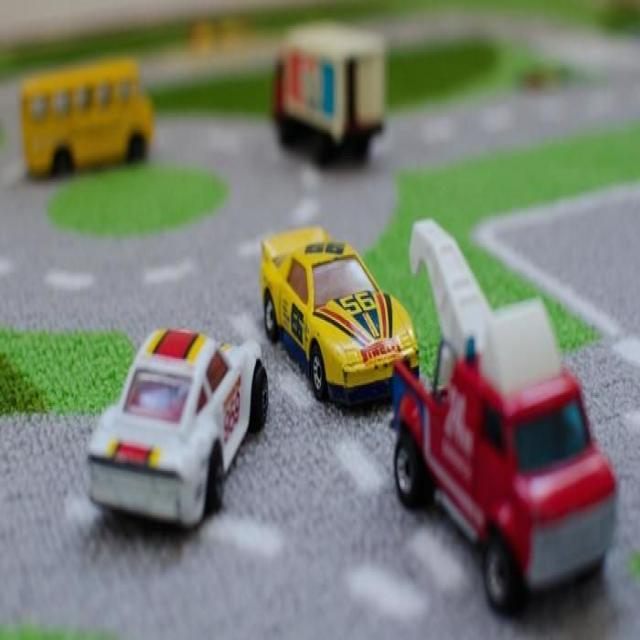Car: (89, 330, 268, 528), (260, 227, 418, 404)
